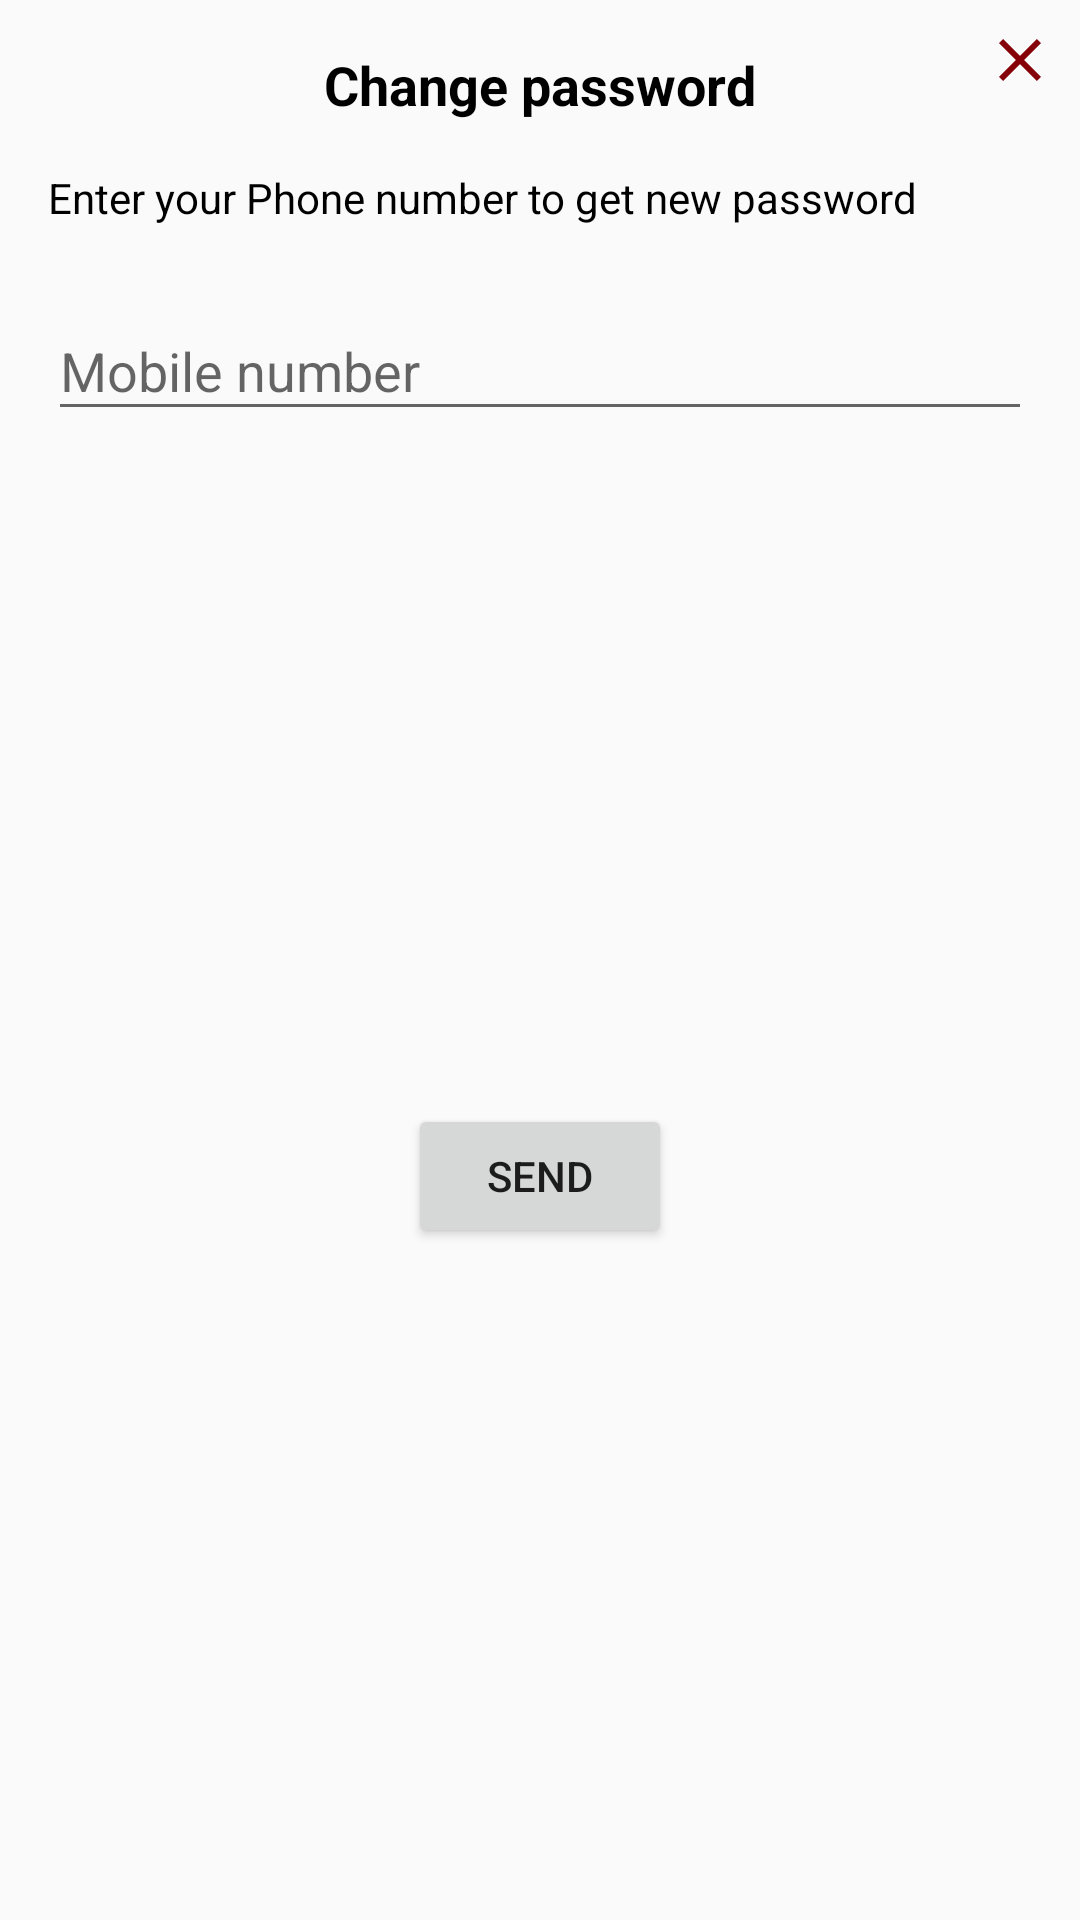

Named icons in this screenshot (1080×1920) and their centers, (x=x, y=y):
close: (x=1020, y=60)
